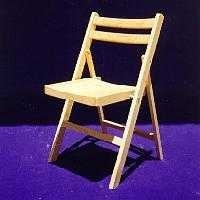obstacle: (44, 12, 163, 188)
